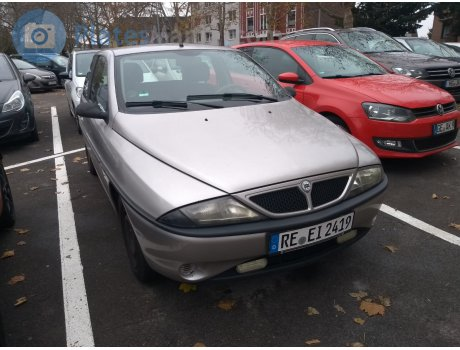License Plates: (277, 233, 331, 245), (279, 230, 284, 235), (255, 247, 259, 251)
